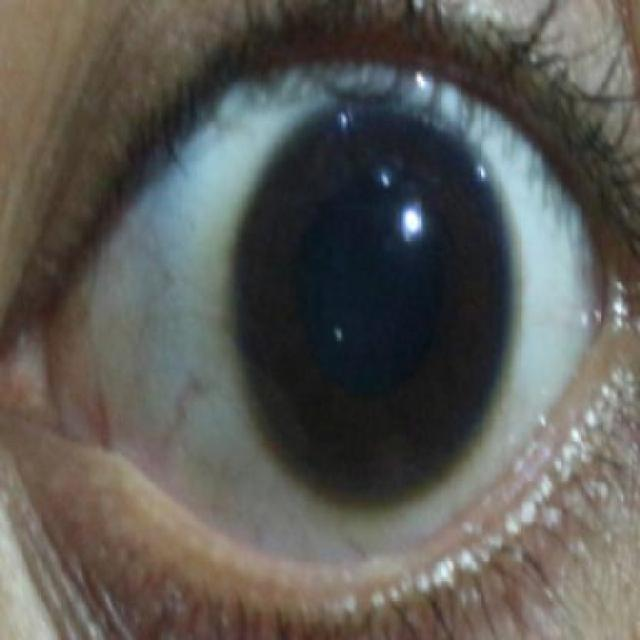Normal: (229, 98, 512, 512)
